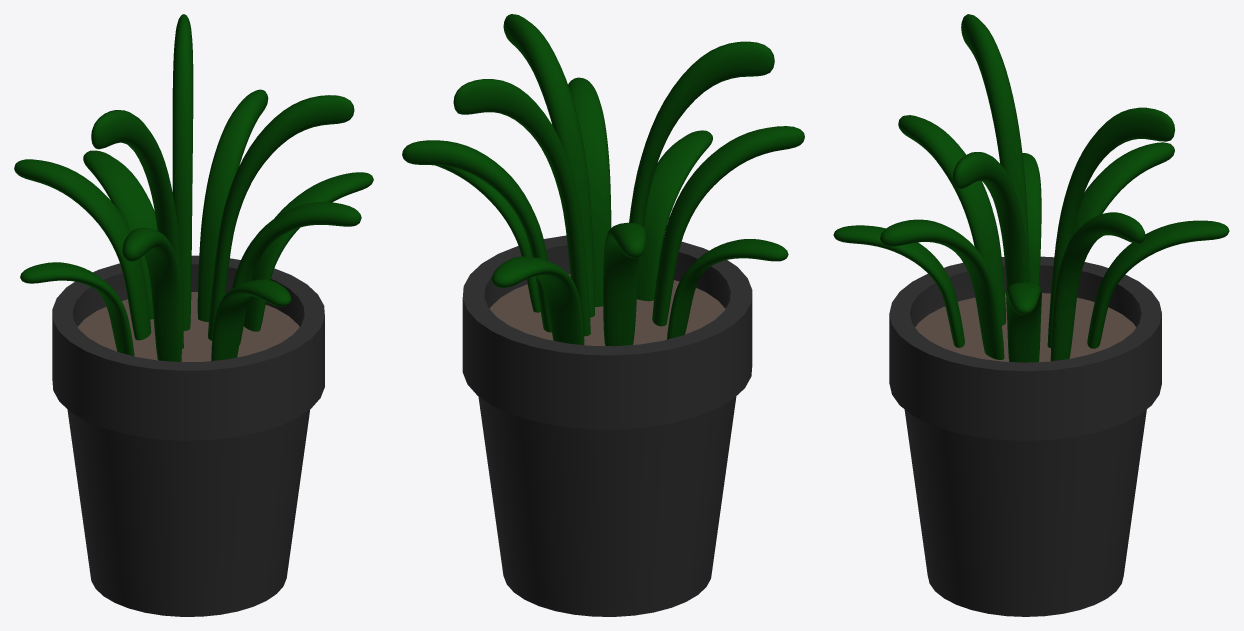
File: Plante1_3.fbx
3 views of the same model, side by side, from view 1: azimuth 30°, elevation 25°; view 2: azimuth 150°, elevation 25°; view 3: azimuth 270°, elevation 25° (orthographic). The views are drawn at different scales.
Visible parts, largest first — view 1: pCylinder732, pCube1946, pCube1949, pCube1943, pCube1948, pCylinder733, pCube1950, pCube1941, pCube1942, pCube1947, pCube1944, pCube1945 (+1 smaller); view 2: pCylinder732, pCube1949, pCube1950, pCube1946, pCube1941, pCylinder733, pCube1943, pCube1945, pCube1947, pCube1948, pCube1942, pCube1940 (+1 smaller); view 3: pCylinder732, pCylinder733, pCube1949, pCube1950, pCube1941, pCube1947, pCube1943, pCube1946, pCube1942, pCube1948, pCube1945, pCube1944 (+1 smaller).
Part boxes in pixels (x1,y1,x2,y2): pCylinder732: (52,255,324,616); pCube1946: (208,95,354,340); pCube1949: (172,14,193,330); pCube1943: (197,89,268,322); pCube1948: (14,159,151,340); pCylinder733: (78,292,299,361); pCube1950: (91,110,183,348); pCube1941: (122,228,181,361); pCube1942: (83,150,157,319); pCube1947: (232,202,361,344); pCube1944: (243,172,373,331); pCube1945: (211,279,291,360); pCylinder732: (462,235,752,616); pCube1949: (453,79,590,336); pCube1950: (629,41,774,287); pCube1946: (503,14,594,317); pCube1941: (652,126,804,326); pCylinder733: (490,274,725,345); pCube1943: (402,140,551,332); pCube1945: (636,130,712,301); pCube1947: (568,77,611,306); pCube1948: (603,222,646,346); pCube1942: (492,256,584,344); pCube1940: (667,239,788,339); pCylinder732: (889,256,1161,616); pCylinder733: (915,293,1135,361); pCube1949: (1047,107,1174,348); pCube1950: (961,14,1029,282); pCube1941: (898,115,1005,325); pCube1947: (880,219,1004,359); pCube1943: (1050,212,1145,361); pCube1946: (952,152,1028,287); pCube1942: (1087,220,1229,348); pCube1948: (1073,142,1174,235); pCube1945: (833,225,964,347); pCube1944: (1006,282,1041,362).
Bounding box in the file's own units: 16.65 × 22.94 × 16.27.
